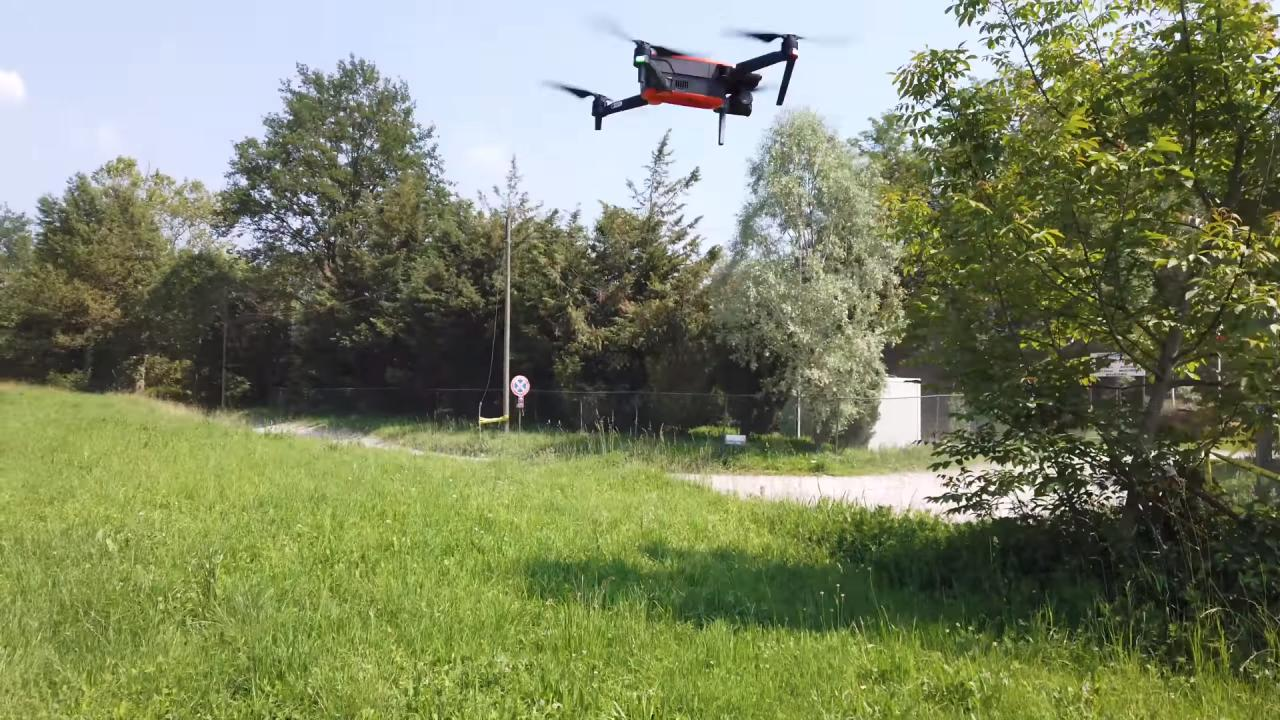Drone: (539, 7, 821, 152)
